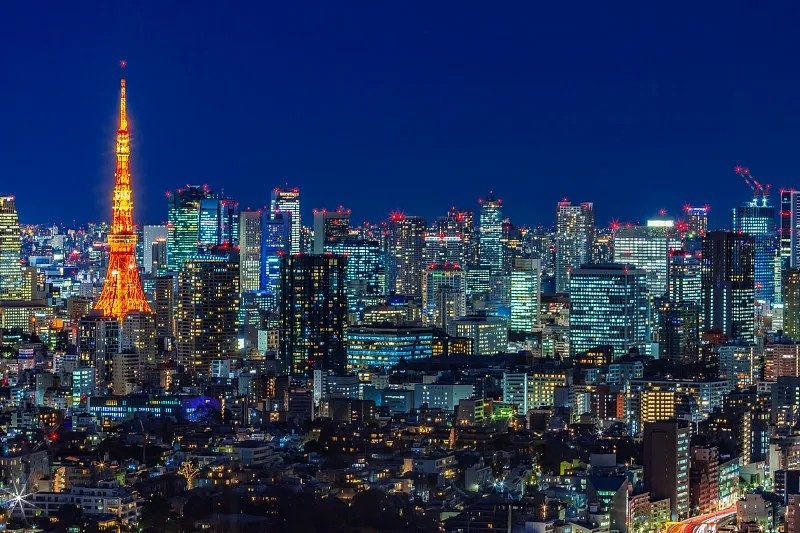Tokyo: (93, 56, 154, 316)
